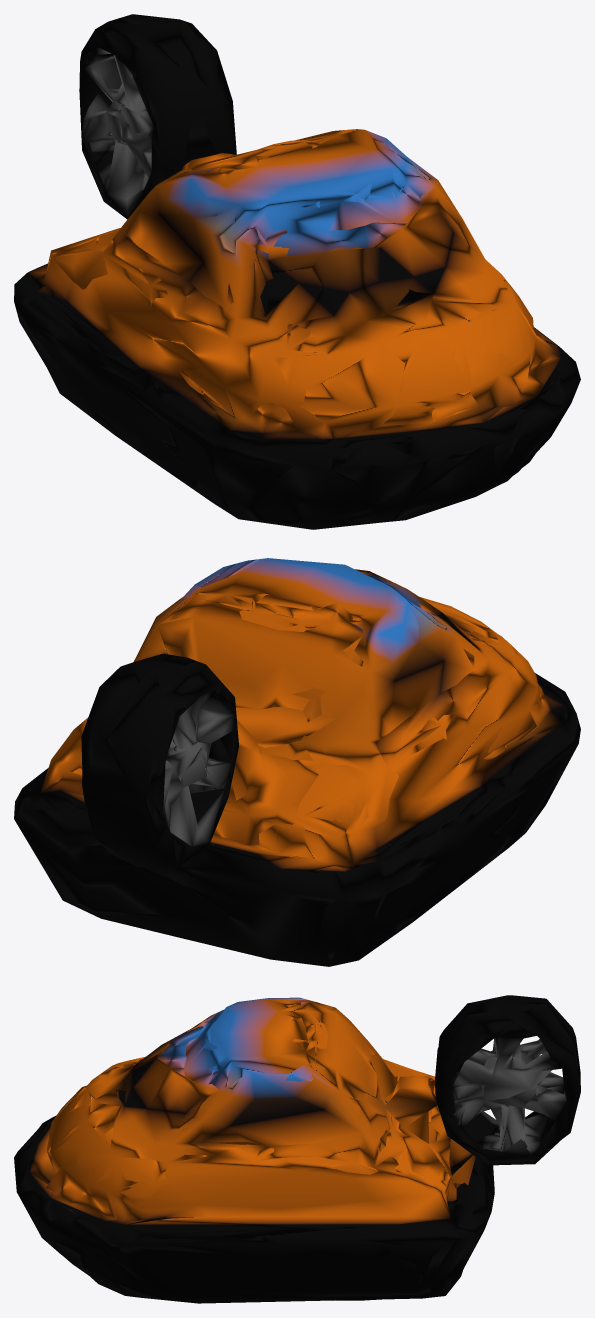
File: gen3d-hovercraft-lod0.glb
3 views of the same model, one above another, from view 1: azimuth 30°, elevation 25°; view 2: azimuth 150°, elevation 25°; view 3: azimuth 270°, elevation 25° (orthographic). The views are drawn at different scales.
Visible parts, largest first — view 1: part_0; view 2: part_0; view 3: part_0.
Boxes of the visible parts, <box> form: part_0: <box>14,14,580,529</box>; part_0: <box>14,558,580,966</box>; part_0: <box>14,995,580,1303</box>.
Size of the model in its own units: 1.3 by 0.9931 by 2.12.
